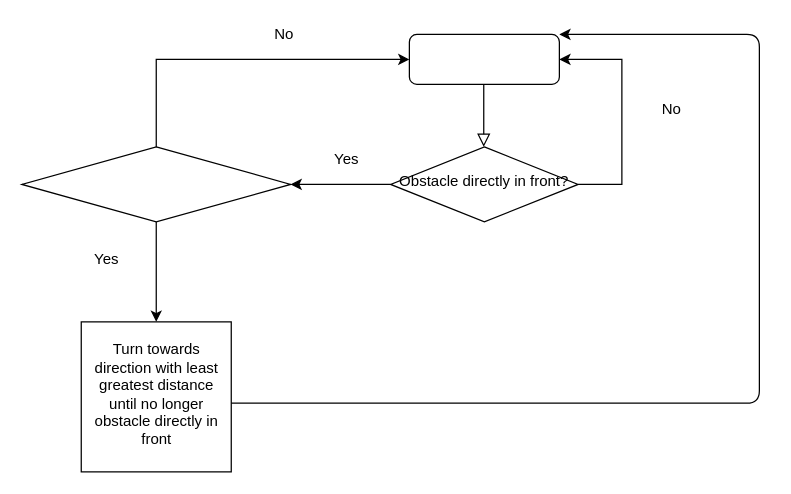
Some shapes in this 791 by 494 pixel diagram are drawn without their labels. The box of each missing label's shape, as (x1, y1, x2, y2) in pixels:
Moving forward - following right wall with PID: (408, 33, 559, 84)
Obstacle in front right corner?: (21, 146, 291, 222)
